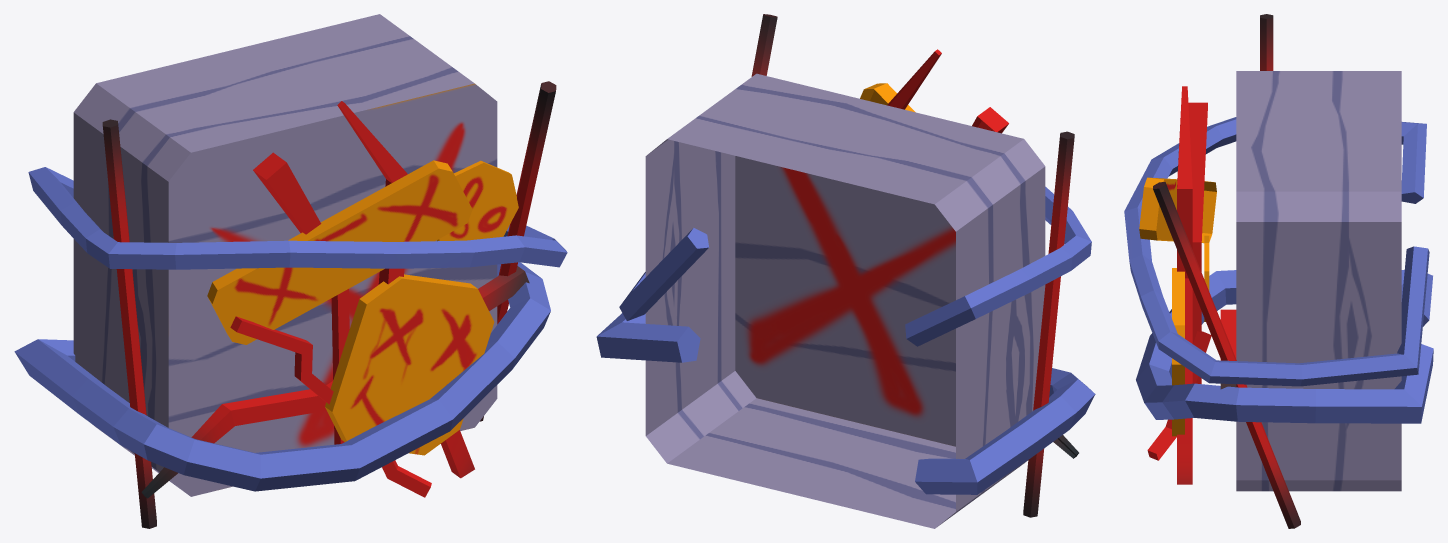
The model's file is SM_destructible2.FBX.
The picture shows the model from 3 angles, left to right: view 1: azimuth 30°, elevation 25°; view 2: azimuth 150°, elevation 25°; view 3: azimuth 270°, elevation 25°; orthographic projection. The views are drawn at different scales.
Visible parts, largest first — view 1: 2; view 2: 2; view 3: 2.
Part boxes in pixels (box(x1,y1,x2,y2)): 2: box(14, 14, 567, 528); 2: box(596, 14, 1095, 528); 2: box(1124, 14, 1433, 528).
Size of the model in its own units: 267 by 245 by 187.
